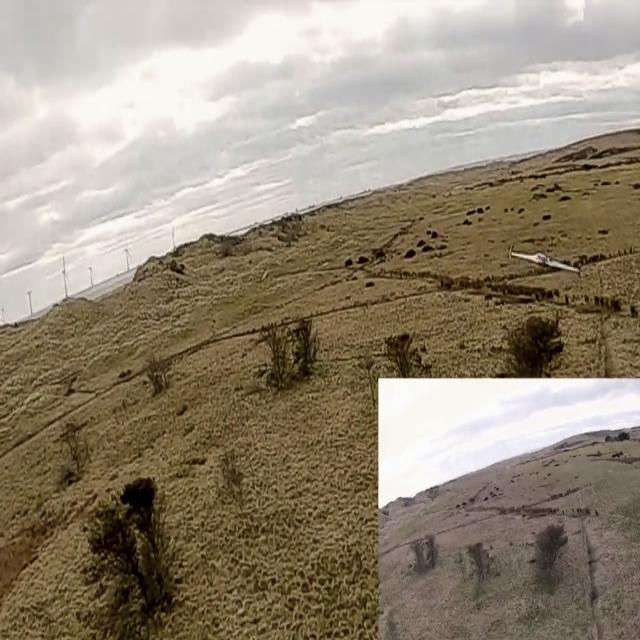iha: (544, 244, 548, 274)
